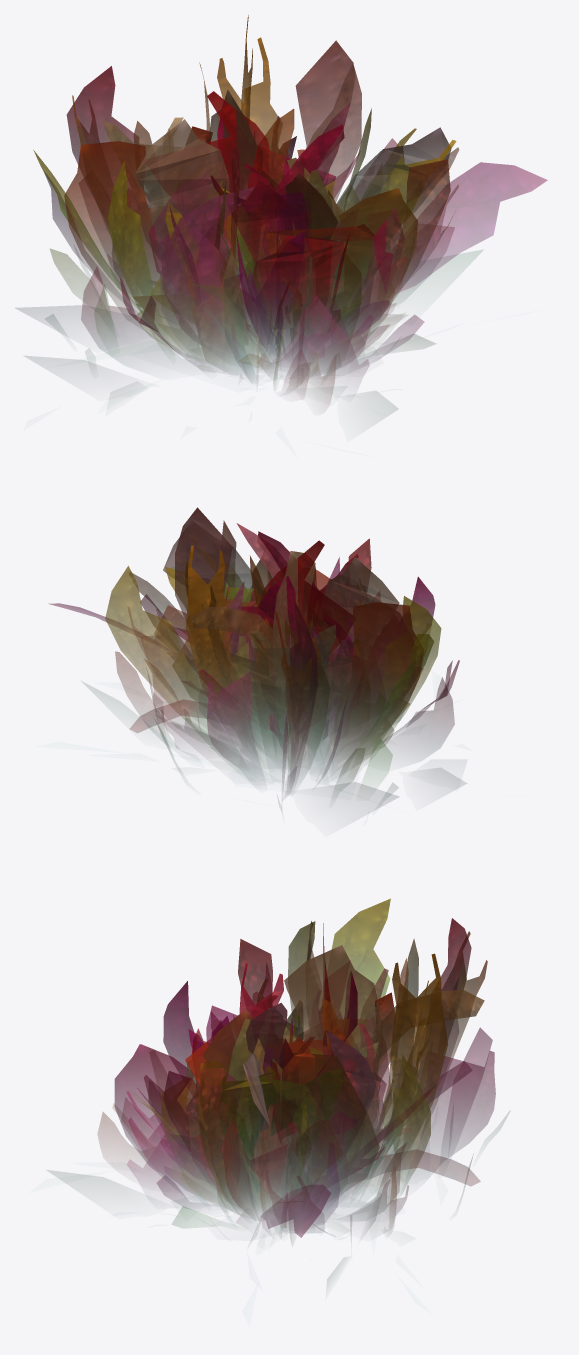
File: vdknafgha_tier_2.gltf
3 renders of one model, top to bottom at view 1: azimuth 30°, elevation 25°; view 2: azimuth 150°, elevation 25°; view 3: azimuth 270°, elevation 25°, orthographic. The views are drawn at different scales.
Parts seen in each view (by area): view 1: SM_vdknafgha_VarG, SM_vdknafgha_VarF, SM_vdknafgha_VarC, SM_vdknafgha_VarH, SM_vdknafgha_VarE, SM_vdknafgha_VarB; view 2: SM_vdknafgha_VarG, SM_vdknafgha_VarH, SM_vdknafgha_VarF, SM_vdknafgha_VarC, SM_vdknafgha_VarE; view 3: SM_vdknafgha_VarG, SM_vdknafgha_VarC, SM_vdknafgha_VarH, SM_vdknafgha_VarF, SM_vdknafgha_VarE, SM_vdknafgha_VarD.
Part boxes in pixels (box(x1,y1,x2,y2)): SM_vdknafgha_VarG: box(16, 15, 482, 409); SM_vdknafgha_VarF: box(148, 118, 404, 370); SM_vdknafgha_VarC: box(120, 126, 423, 383); SM_vdknafgha_VarH: box(191, 102, 547, 360); SM_vdknafgha_VarE: box(133, 157, 434, 367); SM_vdknafgha_VarB: box(239, 290, 340, 366); SM_vdknafgha_VarG: box(83, 507, 466, 813); SM_vdknafgha_VarH: box(50, 520, 332, 745); SM_vdknafgha_VarF: box(172, 555, 405, 747); SM_vdknafgha_VarC: box(161, 557, 459, 747); SM_vdknafgha_VarE: box(232, 569, 409, 741); SM_vdknafgha_VarG: box(47, 898, 509, 1279); SM_vdknafgha_VarC: box(114, 981, 472, 1227); SM_vdknafgha_VarH: box(164, 1002, 361, 1237); SM_vdknafgha_VarF: box(163, 963, 379, 1200); SM_vdknafgha_VarE: box(161, 979, 390, 1227); SM_vdknafgha_VarD: box(259, 1099, 291, 1211).
Size of what is drawn, in the model's own units: 1.25 by 0.6629 by 1.06.
1 material, 1 textured.
